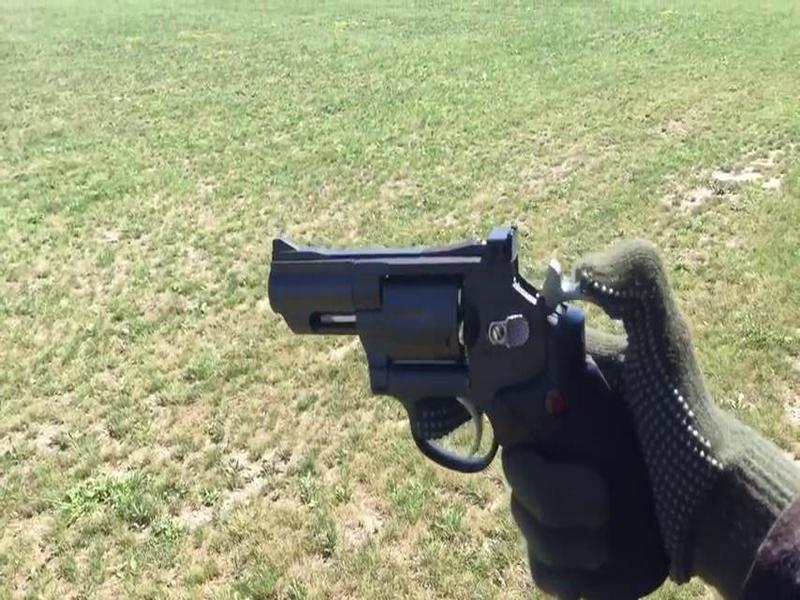Revolver: (247, 194, 704, 600)
